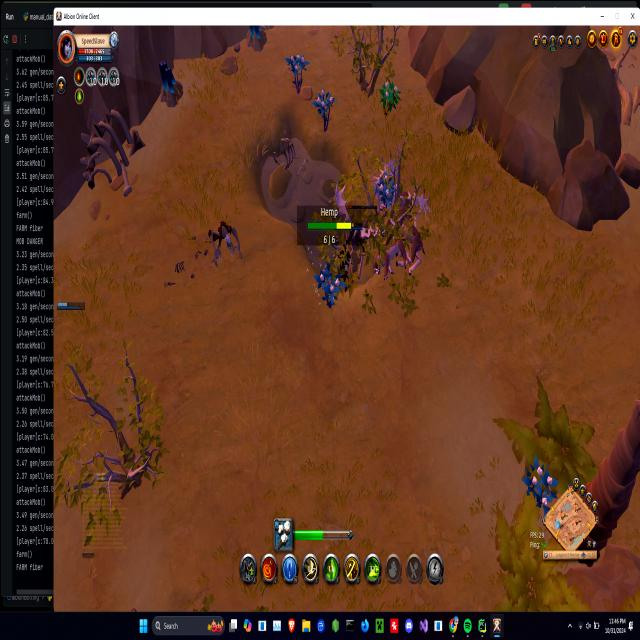hide: (524, 456, 556, 512), (316, 259, 340, 310), (314, 87, 334, 125), (286, 50, 307, 86), (376, 171, 396, 207), (379, 79, 399, 114)
mob: (371, 188, 427, 281)
ore: (335, 189, 382, 269), (204, 215, 245, 266)
player: (158, 60, 184, 108), (245, 25, 268, 48)
red: (334, 221, 356, 279), (55, 300, 86, 312)
